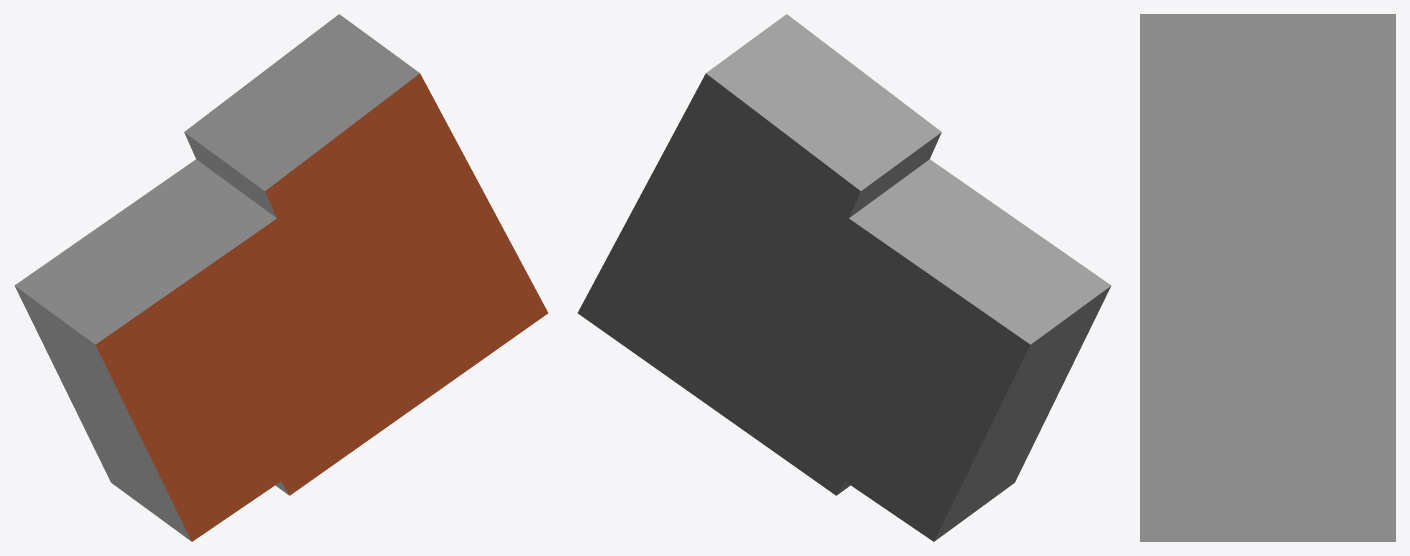
Rendered from construction_6537_assumed_A_Casa_h6m.obj.
3 renders of one model, left to right at view 1: azimuth 30°, elevation 25°; view 2: azimuth 150°, elevation 25°; view 3: azimuth 270°, elevation 25°, orthographic. The views are drawn at different scales.
Parts seen in each view (by area): view 1: construction_6537_assumed_A_Casa; view 2: construction_6537_assumed_A_Casa; view 3: construction_6537_assumed_A_Casa.
Boxes of the visible parts, bbox=[...] form: construction_6537_assumed_A_Casa: bbox=[14, 14, 548, 541]; construction_6537_assumed_A_Casa: bbox=[577, 14, 1111, 541]; construction_6537_assumed_A_Casa: bbox=[1140, 14, 1395, 541].
Bounding box in the file's own units: 19.39 × 16.89 × 6.
